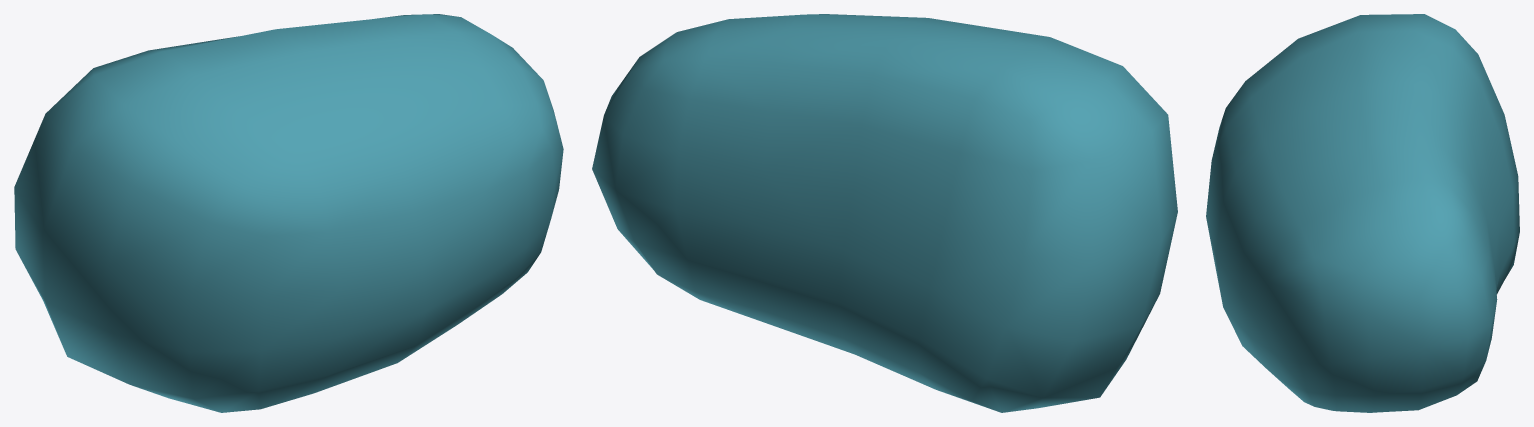
File: VIS_Alpha_Surface_029.dae
3 views of the same model, side by side, from view 1: azimuth 30°, elevation 25°; view 2: azimuth 150°, elevation 25°; view 3: azimuth 270°, elevation 25° (orthographic). The views are drawn at different scales.
Parts seen in each view (by area): view 1: VIS_Alpha_Surface_029; view 2: VIS_Alpha_Surface_029; view 3: VIS_Alpha_Surface_029.
Part boxes in pixels (left/top/right/bottom): VIS_Alpha_Surface_029: left=14, top=14, right=563, bottom=412; VIS_Alpha_Surface_029: left=592, top=14, right=1177, bottom=412; VIS_Alpha_Surface_029: left=1206, top=14, right=1519, bottom=412.
Size of the model in its own units: 3.49 by 2.05 by 2.09.
